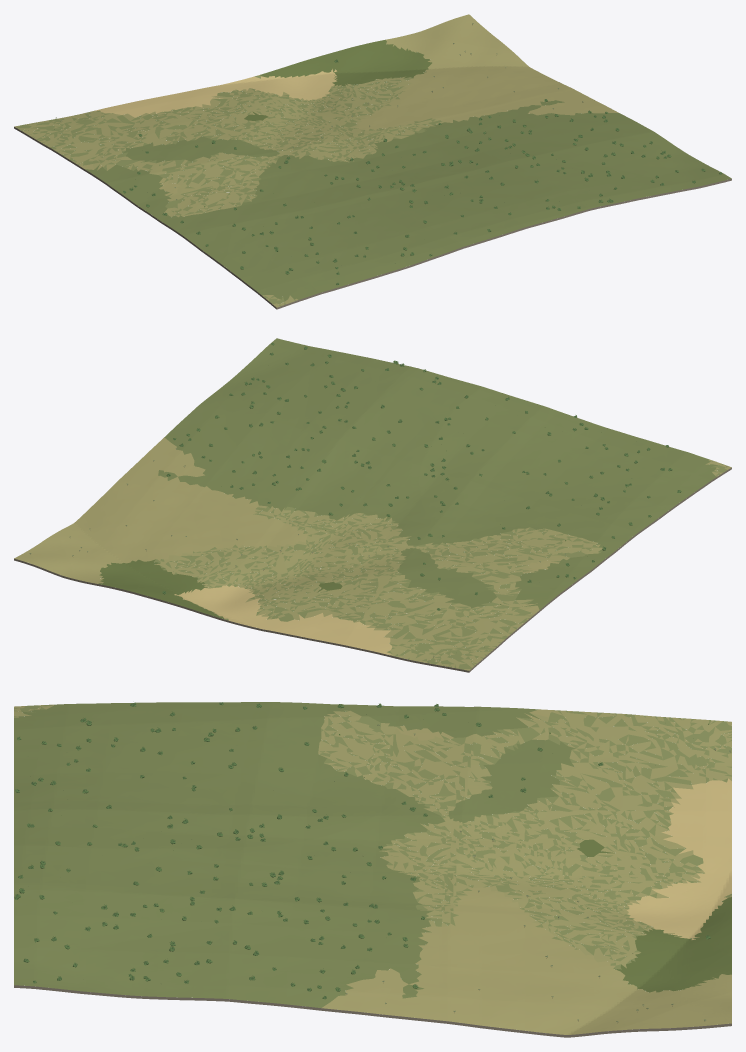
Rendered from parca_+3_-3-yakin.glb.
The picture shows the model from 3 angles, top to bottom: view 1: azimuth 30°, elevation 25°; view 2: azimuth 150°, elevation 25°; view 3: azimuth 270°, elevation 25°; orthographic projection. The views are drawn at different scales.
Parts seen in each view (by area): view 1: parca_+3_-3_arazi, parca_+3_-3_bitkiler; view 2: parca_+3_-3_arazi, parca_+3_-3_bitkiler; view 3: parca_+3_-3_arazi, parca_+3_-3_bitkiler.
Boxes of the visible parts, bbox=[...] form: parca_+3_-3_arazi: bbox=[14, 14, 731, 309]; parca_+3_-3_bitkiler: bbox=[28, 23, 722, 284]; parca_+3_-3_arazi: bbox=[14, 338, 731, 672]; parca_+3_-3_bitkiler: bbox=[29, 343, 681, 662]; parca_+3_-3_arazi: bbox=[14, 702, 731, 1037]; parca_+3_-3_bitkiler: bbox=[14, 702, 731, 1022].
Size of the model in its own units: 1000 by 102 by 1000.
